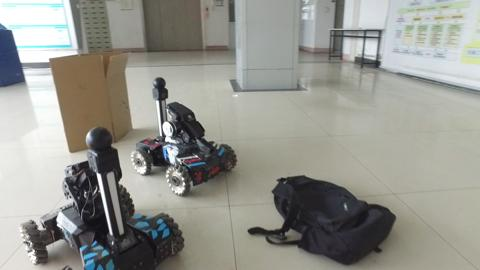bag: (261, 167, 396, 267)
box: (48, 51, 127, 143)
chariot: (15, 128, 182, 270), (133, 74, 239, 192)
